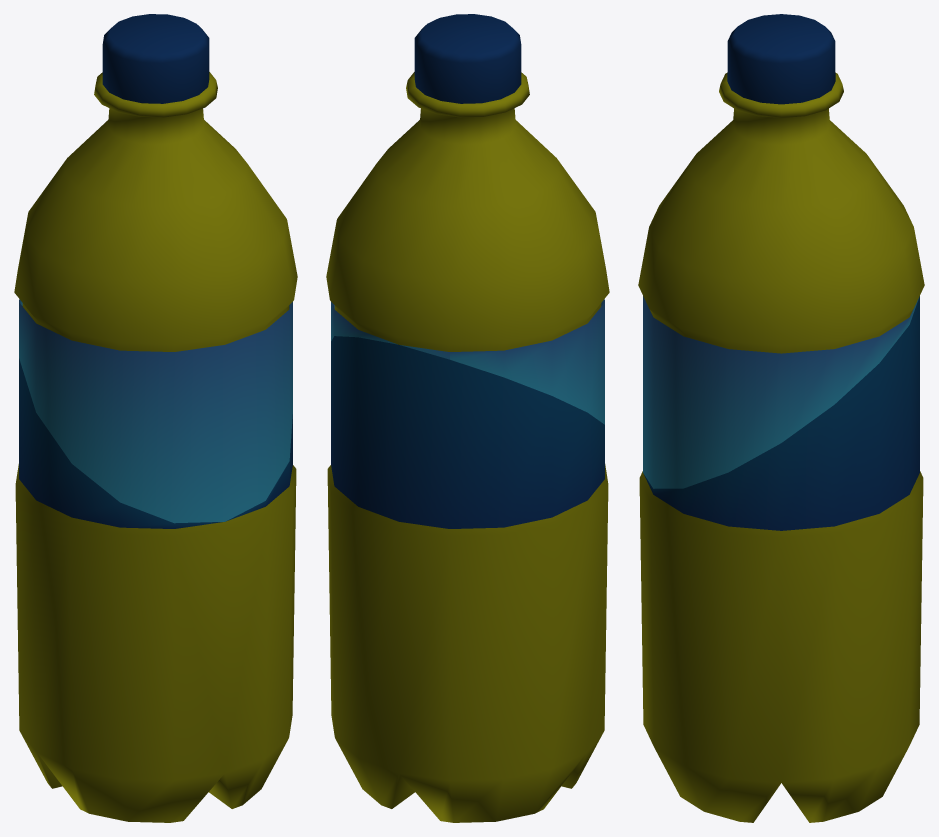
Rendered from SodaBottle_Large.fbx.
The picture shows the model from 3 angles, left to right: view 1: azimuth 30°, elevation 25°; view 2: azimuth 150°, elevation 25°; view 3: azimuth 270°, elevation 25°; orthographic projection.
Parts seen in each view (by area): view 1: SodaBottle_Large; view 2: SodaBottle_Large; view 3: SodaBottle_Large.
Part boxes in pixels (<box>): SodaBottle_Large: <box>14,14,297,822</box>; SodaBottle_Large: <box>326,14,609,822</box>; SodaBottle_Large: <box>638,14,924,822</box>.
Size of the model in its own units: 47.7 by 137 by 47.7.
